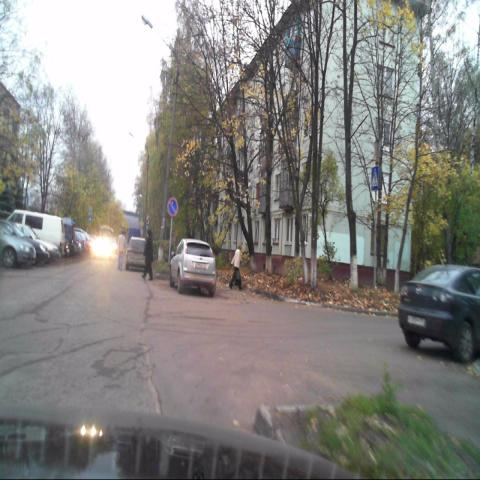3_28: (167, 197, 178, 216)
